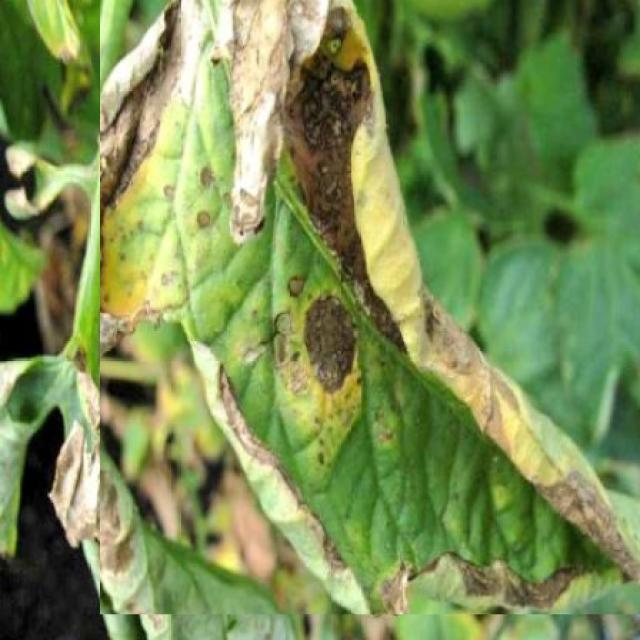Early Blight: (100, 0, 640, 614)
